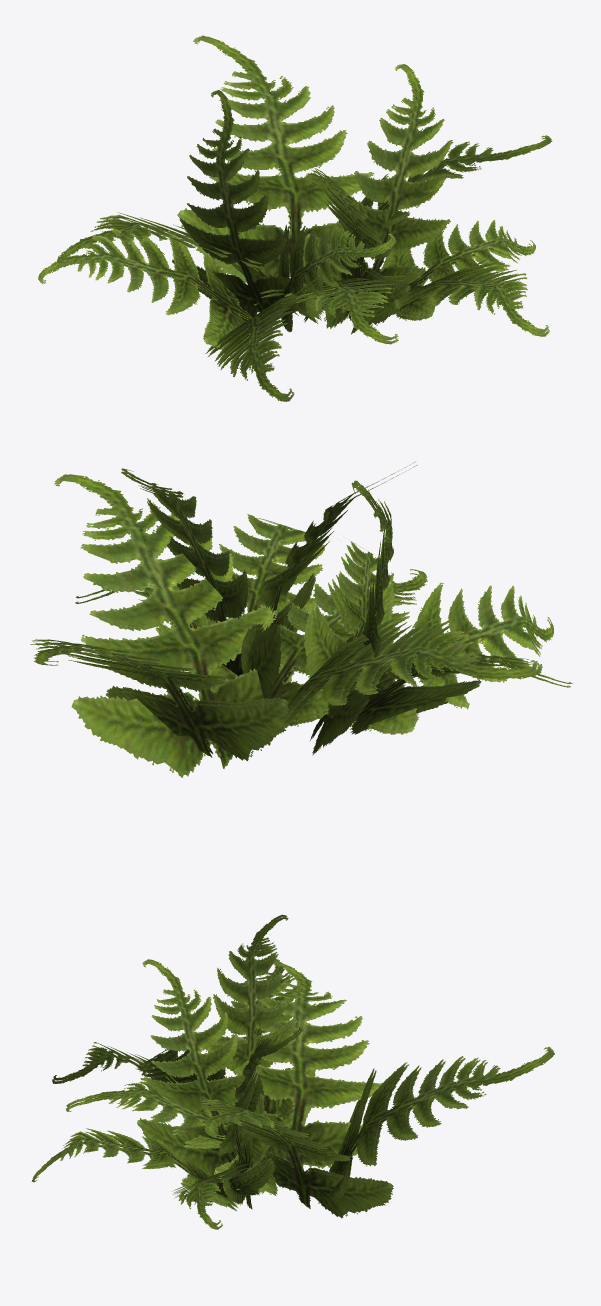
Rendered from guan_mu_003.FBX.
3 renders of one model, top to bottom at view 1: azimuth 30°, elevation 25°; view 2: azimuth 150°, elevation 25°; view 3: azimuth 270°, elevation 25°, orthographic. The views are drawn at different scales.
Parts seen in each view (by area): view 1: guan_mu_003; view 2: guan_mu_003; view 3: guan_mu_003.
Part boxes in pixels (box(x1,y1,x2,y2)): guan_mu_003: box(38, 35, 552, 401); guan_mu_003: box(30, 461, 572, 777); guan_mu_003: box(31, 914, 554, 1229).
Size of the model in its own units: 236 by 151 by 241.
